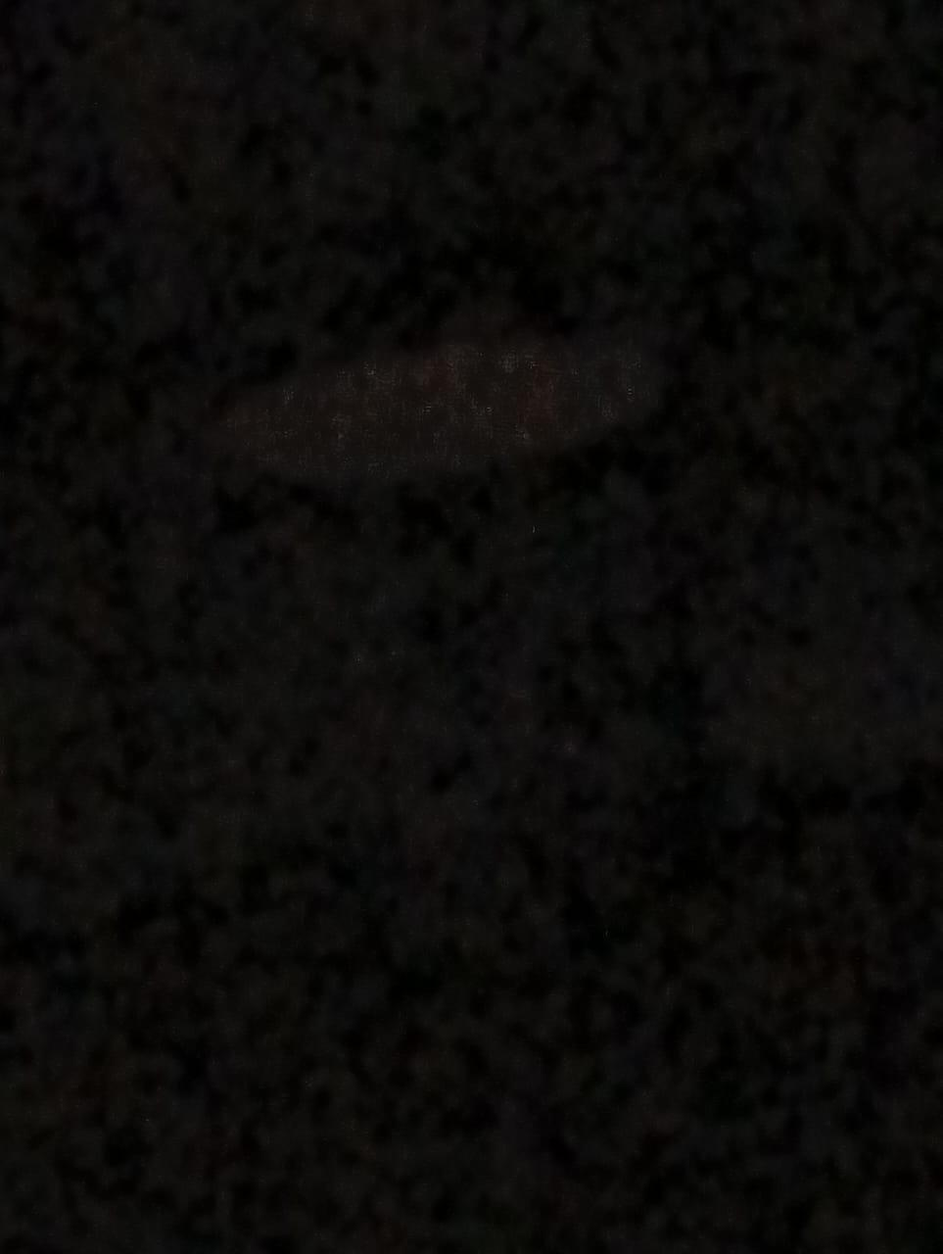cup: (206, 328, 656, 485)
